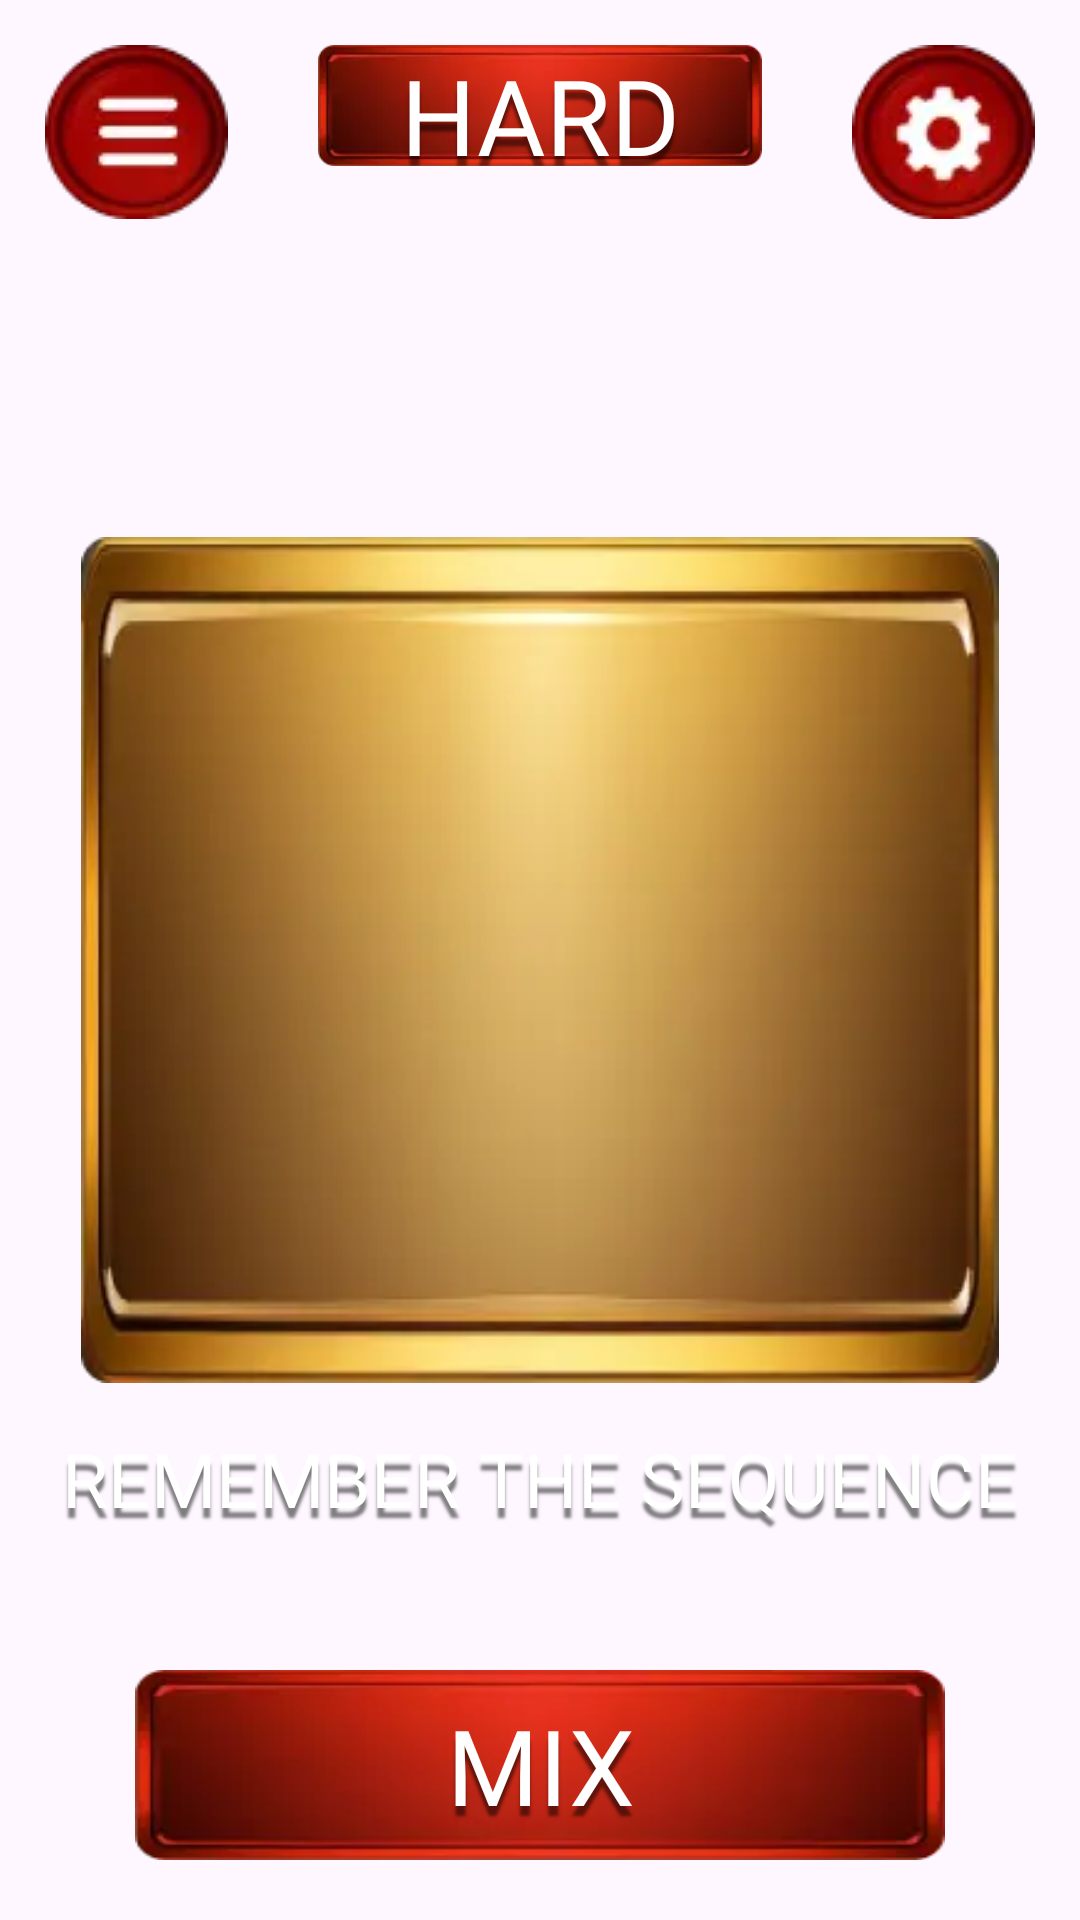

Named icons in this screenshot (1080*1920) and their centers, (x,y):
chose lvl: (136,132)
settings: (943,132)
